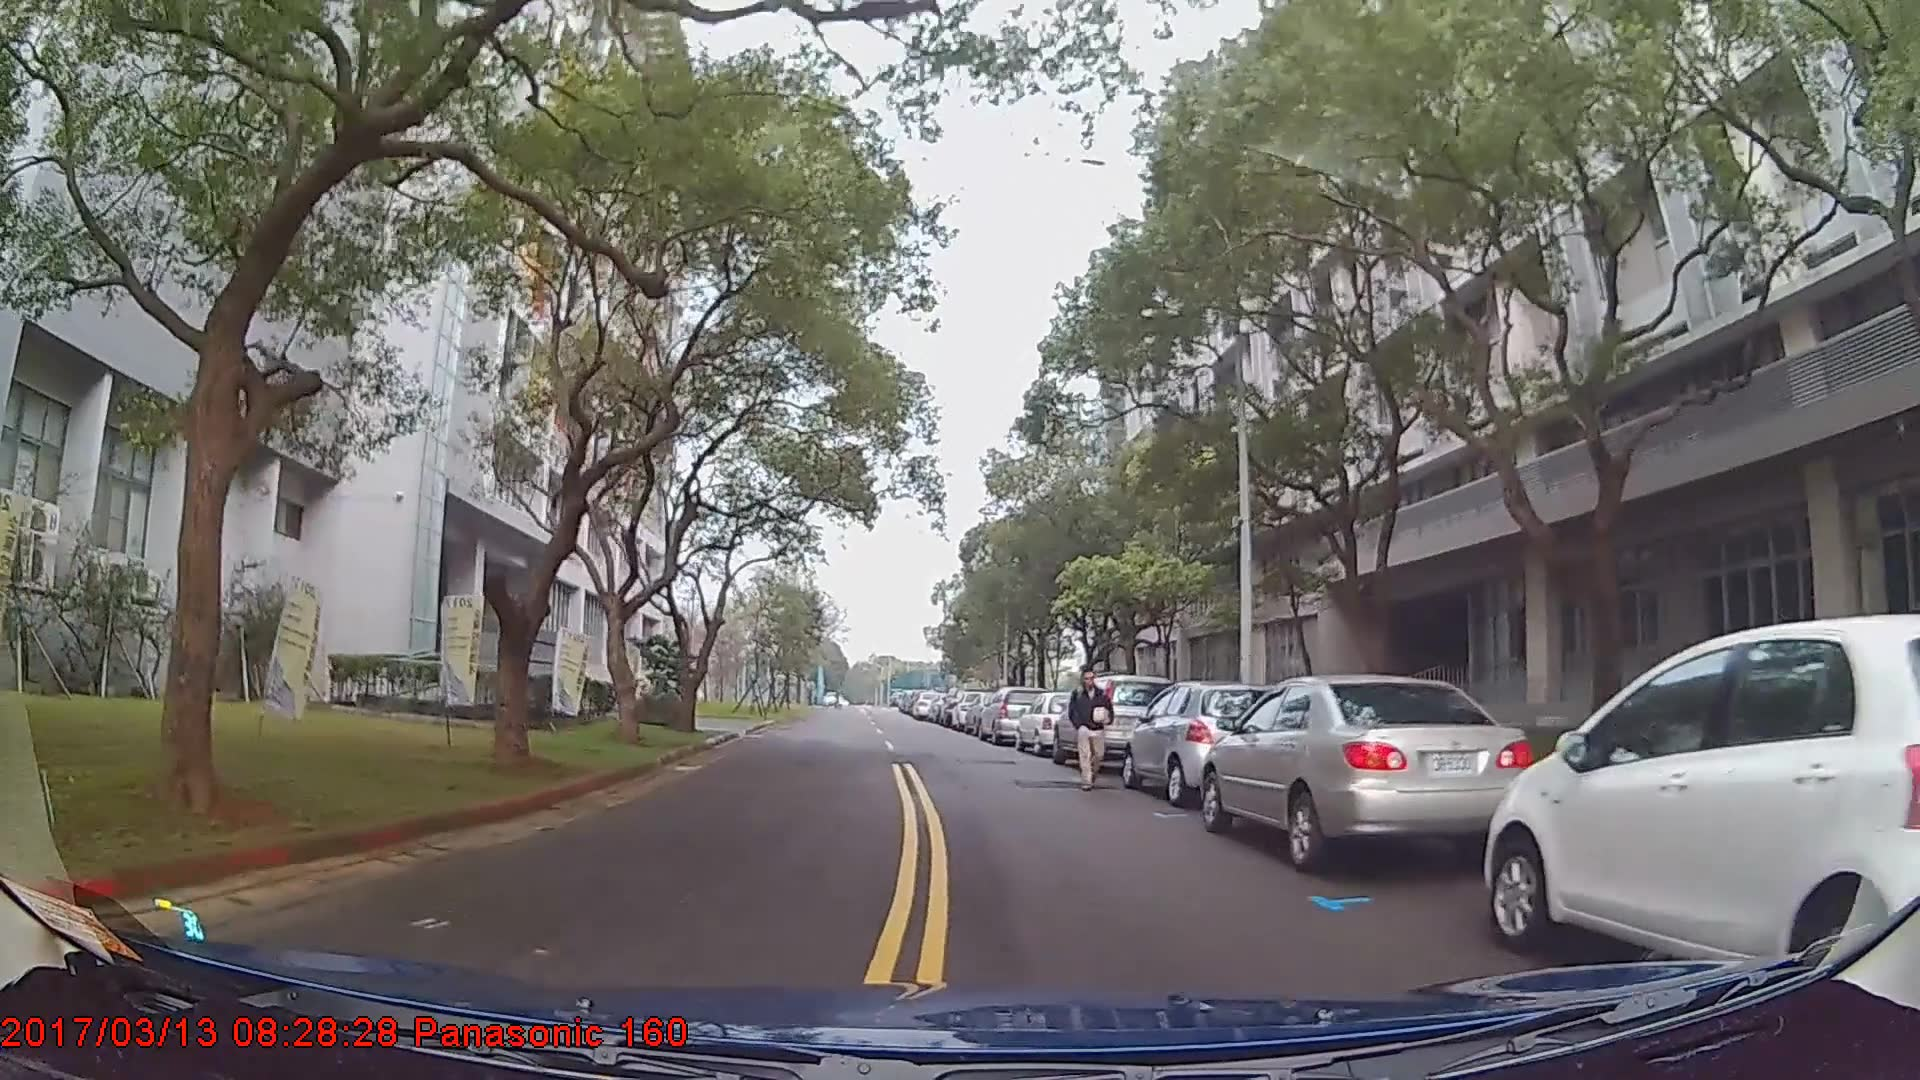pedestrian: (1070, 673, 1116, 793)
vehicle: (1485, 613, 1919, 983), (1199, 670, 1532, 874), (1123, 680, 1289, 810), (1051, 673, 1179, 774), (1014, 690, 1087, 756), (977, 685, 1051, 744)
